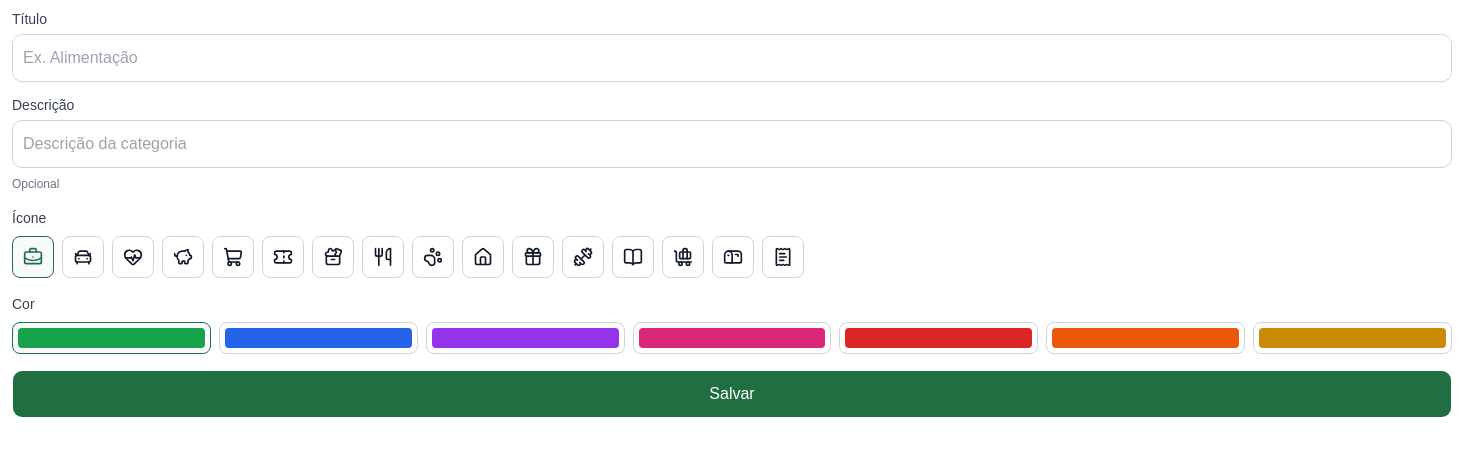
Test: CategoryForm › shows "O título é obrigatório" for an empty title on submit
Step 1. Click the button "Salvar" → (732, 394), box [12,370,1452,418]
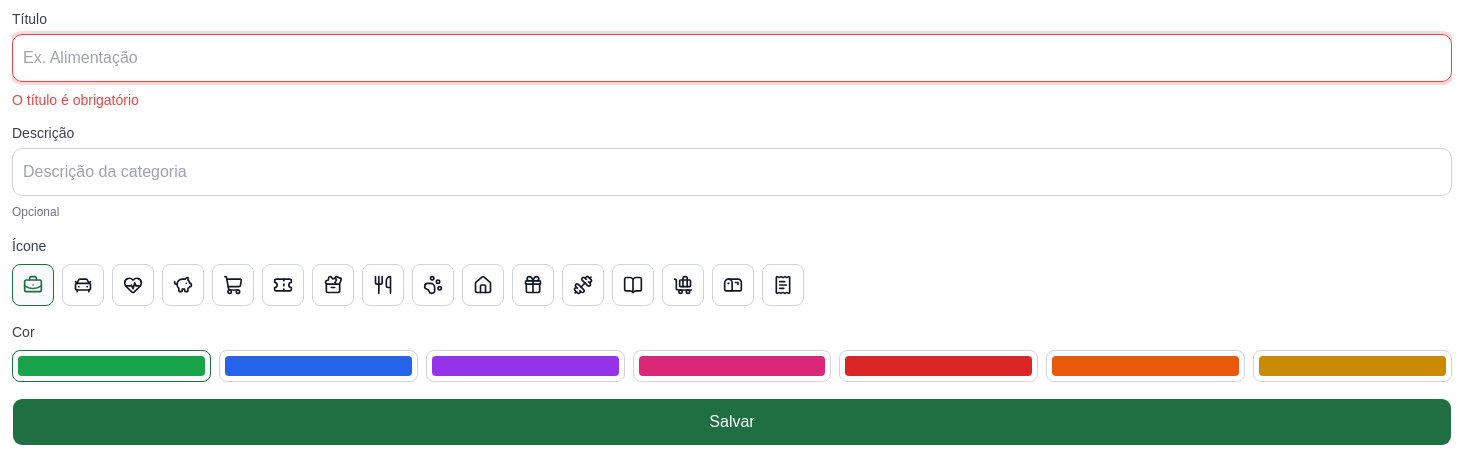
Check: the text "O título é obrigatório" is shown, box [12,92,139,108]
